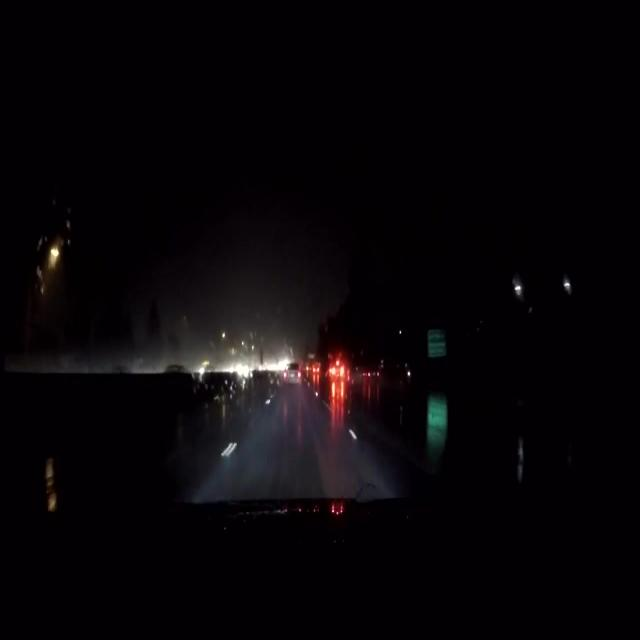Car: (283, 360, 300, 388)
